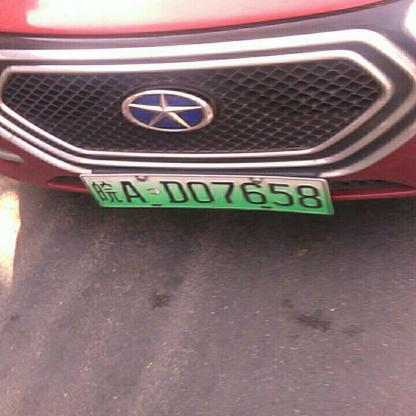lp: (81, 176, 330, 214)
